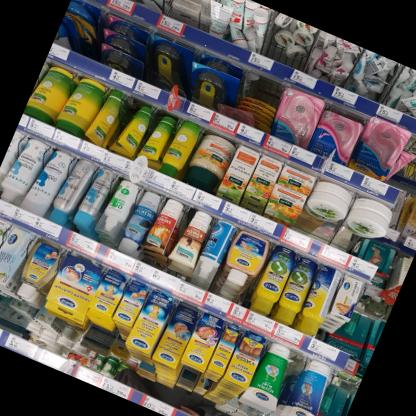empty_space: (247, 73, 285, 106)
